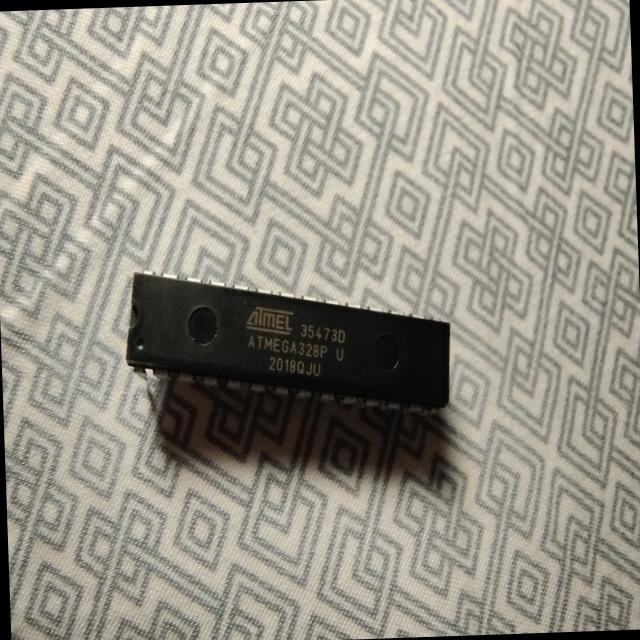atmega: (120, 256, 454, 426)
